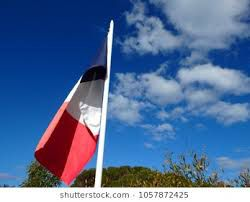French Flag: (34, 30, 105, 183)
